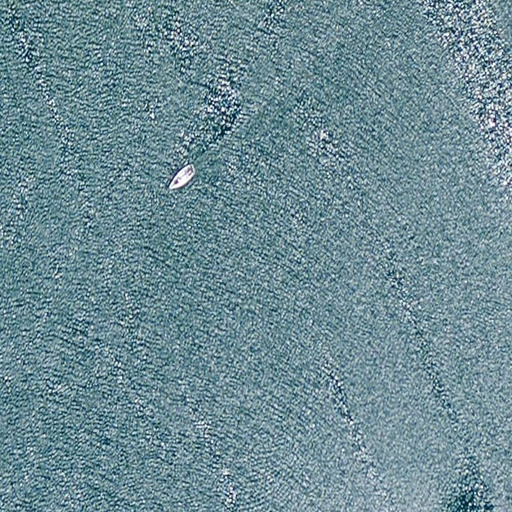ship: (166, 163, 198, 193)
